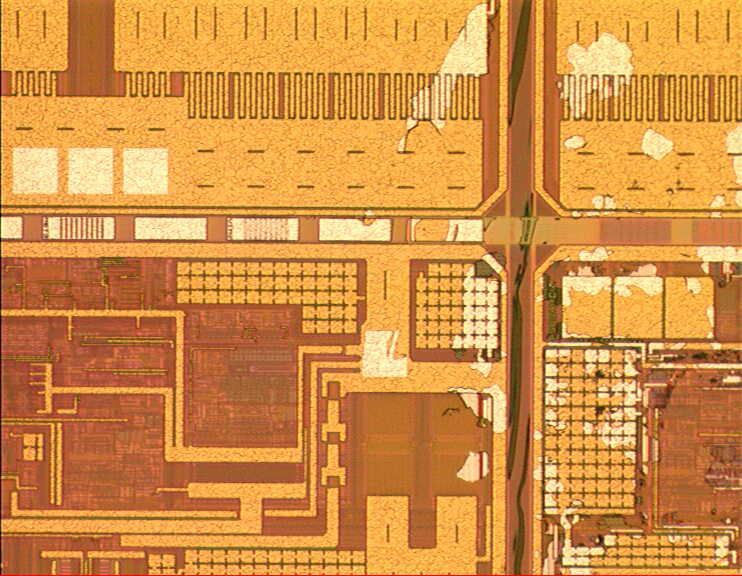COATING BAD: (353, 1, 742, 576)
